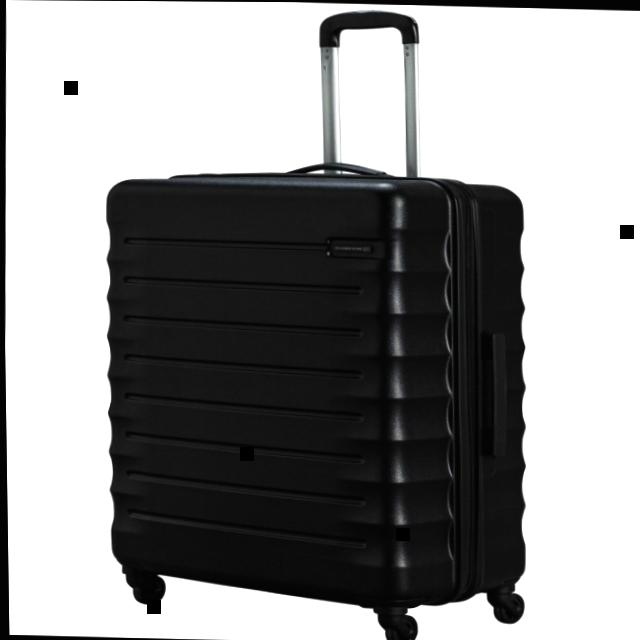luggage: (79, 147, 547, 640)
